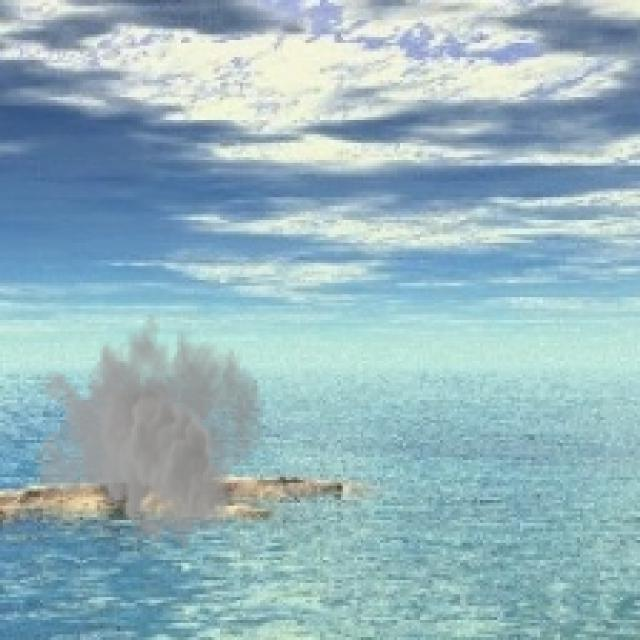smoke: (31, 306, 266, 554)
